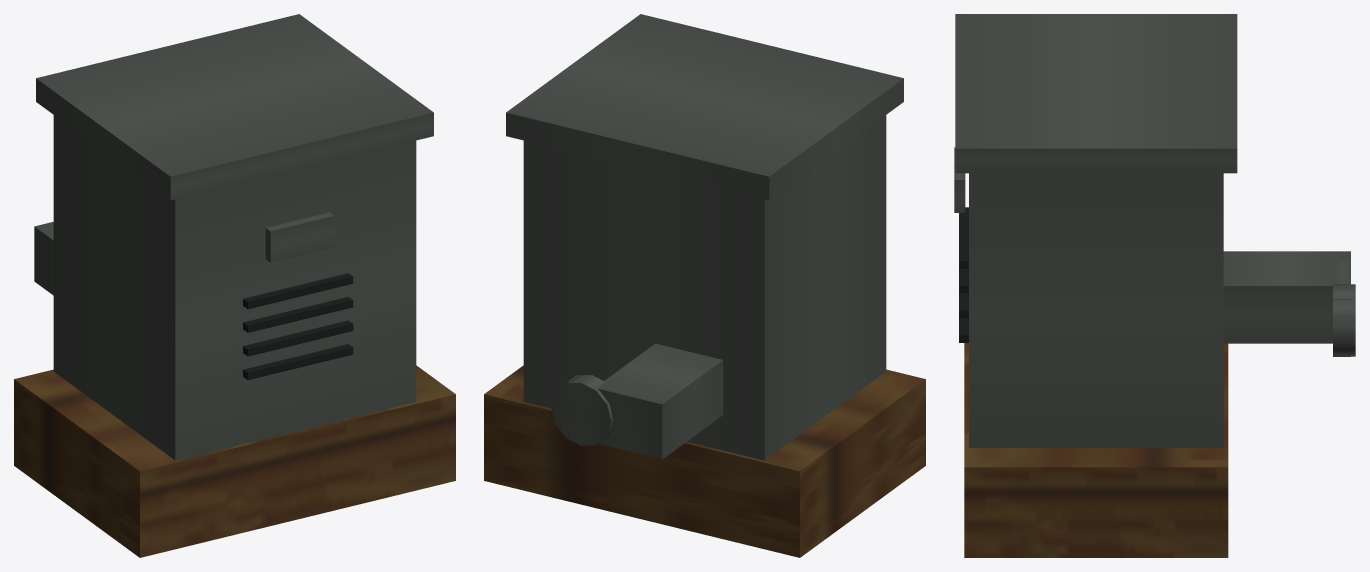
Rendered from SG_Wood_Drive.glb.
3 views of the same model, side by side, from view 1: azimuth 30°, elevation 25°; view 2: azimuth 150°, elevation 25°; view 3: azimuth 270°, elevation 25° (orthographic). The views are drawn at different scales.
Parts seen in each view (by area): view 1: SG_Wood_2_high_SG_Drive; view 2: SG_Wood_2_high_SG_Drive; view 3: SG_Wood_2_high_SG_Drive.
Boxes of the visible parts, x1=… form: SG_Wood_2_high_SG_Drive: x1=14, y1=14, x2=455, y2=557; SG_Wood_2_high_SG_Drive: x1=484, y1=14, x2=925, y2=557; SG_Wood_2_high_SG_Drive: x1=954, y1=14, x2=1355, y2=557.
Size of the model in its own units: 0.42 by 0.48 by 0.441.
Materials: 1 (1 with a texture image).
